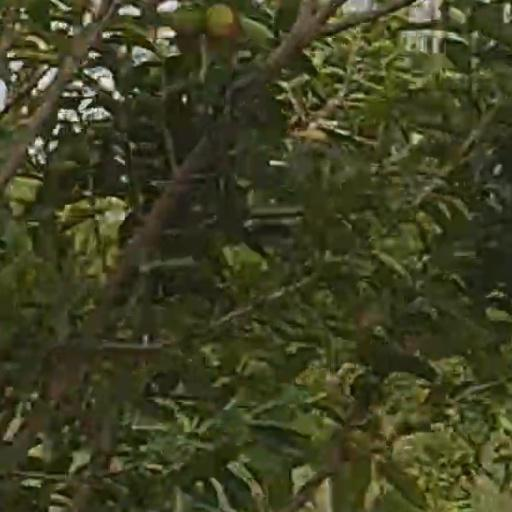acerola_verde: (172, 5, 203, 34)
acerola_vermelha: (206, 5, 235, 38)
